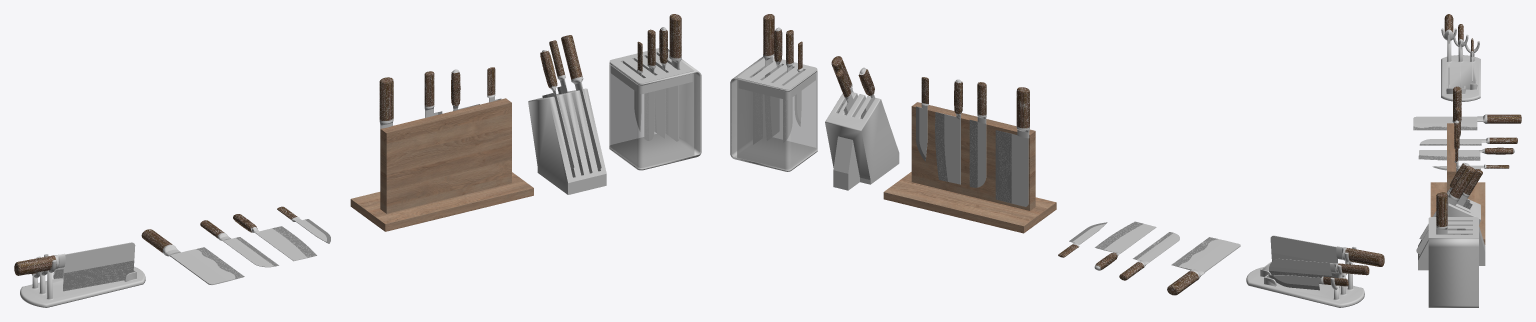
Rendered from daojuzuo.dae.
3 views of the same model, side by side, from view 1: azimuth 30°, elevation 25°; view 2: azimuth 150°, elevation 25°; view 3: azimuth 270°, elevation 25° (orthographic). The views are drawn at different scales.
Visible parts, largest first — view 1: group_11 (×2), group_0, group_1, group_22, group_7 (×3), group_5 (×2), group_4, group_8, group_20 (×2), group_17 (×2), group_10, group_12 (+1 smaller); view 2: group_11 (×2), group_0, group_1, group_22, group_12 (×3), group_7 (×2), group_5 (×2), group_14 (×2), group_4, group_15 (×2), group_8, group_20 (×2) (+3 smaller); view 3: group_22, group_4 (×3), group_11 (×2), group_8 (×3), group_1, group_5, group_10 (×3), group_17 (×2), group_6 (×3), group_20 (×2), group_7 (×2), group_18 (×2) (+6 smaller).
Boxes of the visible parts, bbox=[...] form: group_11 (×2): bbox=[350, 98, 533, 231]; group_0: bbox=[609, 63, 694, 168]; group_1: bbox=[528, 88, 606, 194]; group_22: bbox=[609, 49, 701, 170]; group_7 (×3): bbox=[14, 242, 135, 291]; group_5 (×2): bbox=[609, 48, 694, 93]; group_4: bbox=[20, 266, 145, 307]; group_8: bbox=[162, 244, 242, 284]; group_20 (×2): bbox=[667, 14, 681, 140]; group_17 (×2): bbox=[561, 35, 601, 169]; group_10: bbox=[255, 228, 312, 261]; group_12: bbox=[379, 77, 393, 120]; group_11 (×2): bbox=[883, 102, 1056, 233]; group_0: bbox=[737, 71, 817, 169]; group_1: bbox=[825, 92, 899, 190]; group_22: bbox=[730, 56, 817, 171]; group_12 (×3): bbox=[995, 87, 1029, 206]; group_7 (×2): bbox=[1270, 235, 1384, 273]; group_5 (×2): bbox=[737, 57, 817, 99]; group_14 (×2): bbox=[935, 112, 960, 184]; group_4: bbox=[1246, 267, 1364, 307]; group_15 (×2): bbox=[969, 114, 986, 187]; group_8: bbox=[1179, 239, 1240, 280]; group_20 (×2): bbox=[753, 14, 774, 144]; group_22: bbox=[1428, 238, 1478, 307]; group_4 (×3): bbox=[1441, 40, 1480, 101]; group_11 (×2): bbox=[1430, 123, 1485, 244]; group_8 (×3): bbox=[1413, 114, 1521, 130]; group_1: bbox=[1418, 190, 1485, 270]; group_5: bbox=[1428, 217, 1478, 238]; group_10 (×3): bbox=[1418, 147, 1513, 160]; group_17 (×2): bbox=[1416, 166, 1475, 254]; group_6 (×3): bbox=[1419, 137, 1517, 145]; group_20 (×2): bbox=[1436, 193, 1460, 234]; group_7 (×2): bbox=[1444, 14, 1453, 87]; group_18 (×2): bbox=[1457, 169, 1482, 206].
Size of the model in its own units: 223 by 39.35 by 45.4.
